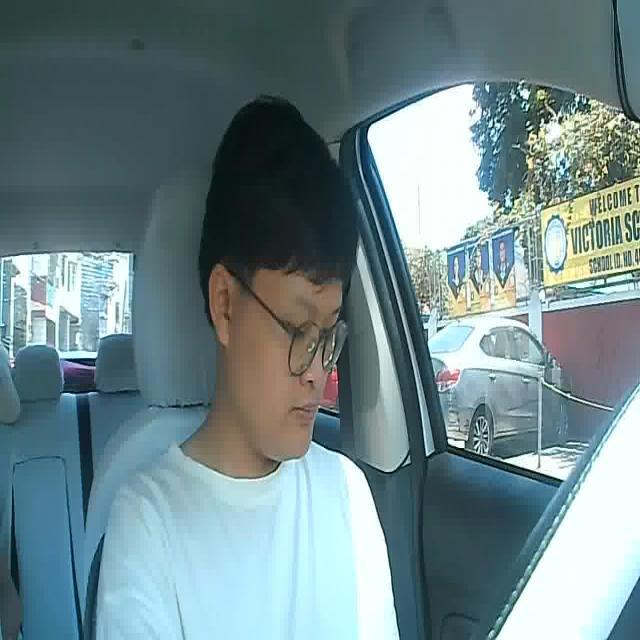Eye-Close: (285, 319, 310, 341), (317, 320, 342, 342)
Inattentive: (198, 96, 361, 463)
Normal: (293, 398, 319, 423)
